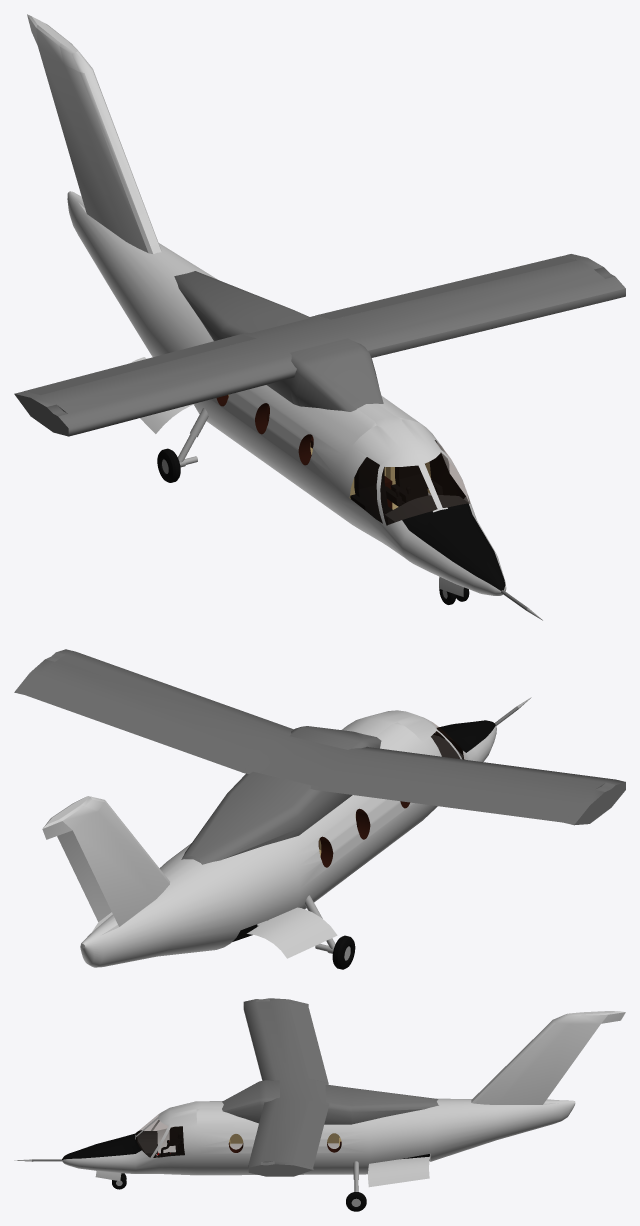
File: corpo_aviao.obj
3 renders of one model, top to bottom at view 1: azimuth 30°, elevation 25°; view 2: azimuth 150°, elevation 25°; view 3: azimuth 270°, elevation 25°, orthographic. The views are drawn at different scales.
Visible parts, largest first — view 1: Plane; view 2: Plane; view 3: Plane.
Part boxes in pixels (bbox=[...]): Plane: bbox=[14, 14, 625, 620]; Plane: bbox=[14, 649, 625, 969]; Plane: bbox=[14, 998, 625, 1211].
Size of the model in its own units: 11.01 by 5.34 by 17.11.
